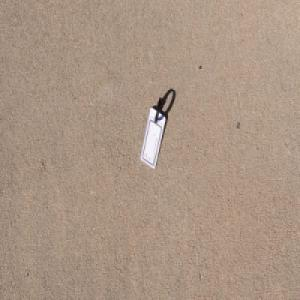LuggageTag: (139, 95, 165, 170)
